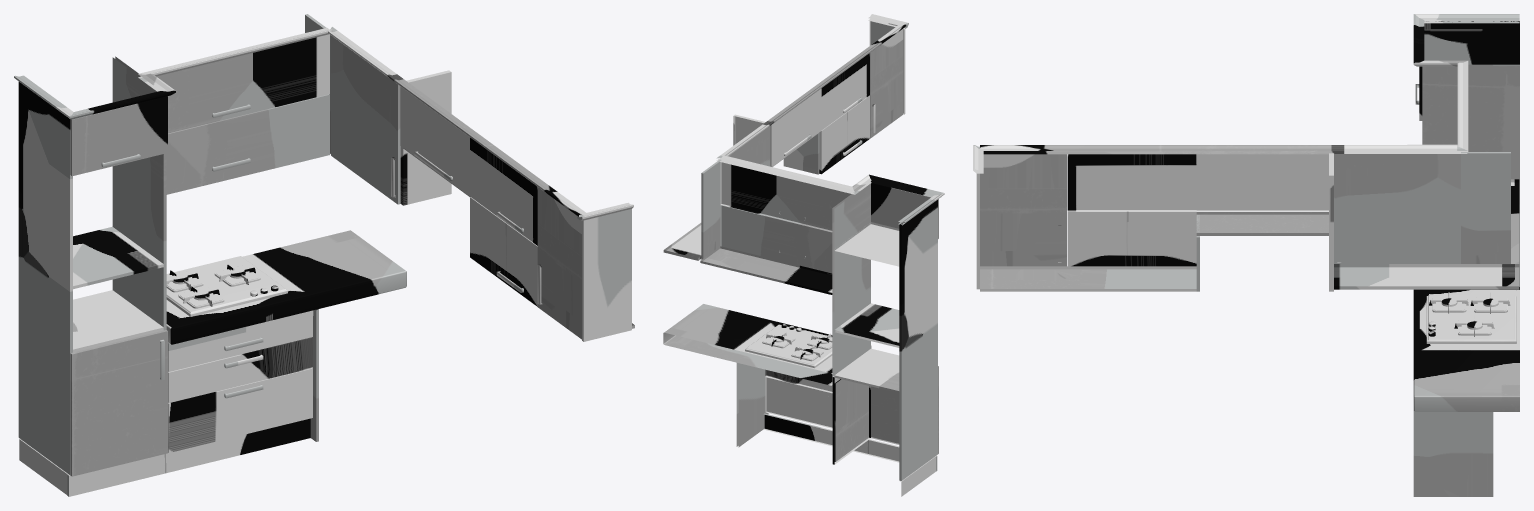
Rendered from RoomsinkV01.fbx.
The picture shows the model from 3 angles, left to right: view 1: azimuth 30°, elevation 25°; view 2: azimuth 150°, elevation 25°; view 3: azimuth 270°, elevation 25°; orthographic projection. The views are drawn at different scales.
Parts seen in each view (by area): view 1: gas_low; view 2: gas_low; view 3: gas_low.
Boxes of the visible parts, box(x1,y1,x2,y2) form: gas_low: box(14, 14, 634, 496); gas_low: box(663, 14, 944, 496); gas_low: box(973, 14, 1519, 496).
Size of the model in its own units: 344 by 375 by 506.
1 material, 1 textured.
